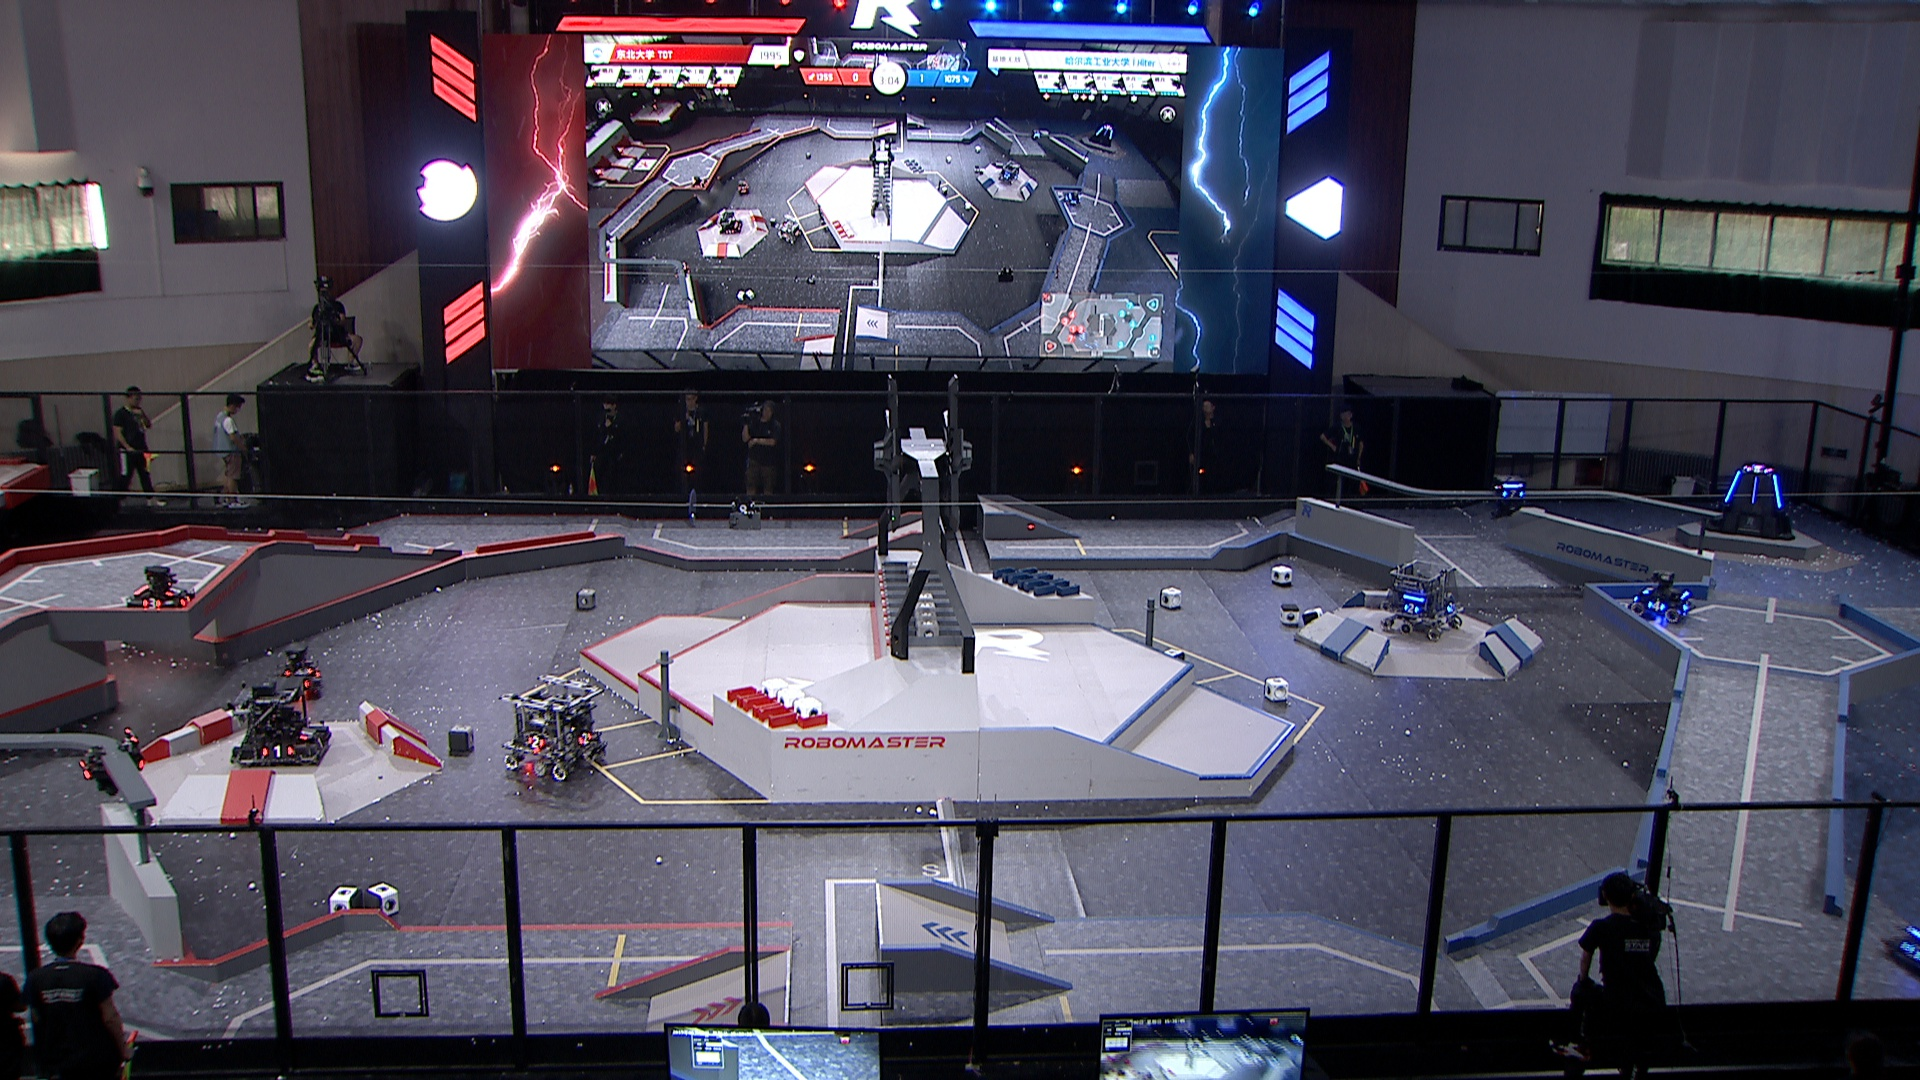armor: (1766, 469, 1787, 509), (1722, 469, 1741, 505), (258, 742, 291, 761), (295, 719, 318, 745), (73, 760, 98, 782), (1899, 940, 1920, 967), (1642, 595, 1669, 613), (524, 733, 547, 754), (284, 665, 314, 680), (572, 728, 595, 749), (1747, 473, 1760, 506), (313, 731, 330, 754), (141, 595, 162, 612), (179, 591, 196, 611), (1501, 488, 1527, 500), (1403, 603, 1423, 618), (164, 583, 182, 597), (1444, 597, 1458, 616)
base: (1702, 462, 1803, 543)
car: (496, 674, 609, 783), (228, 675, 335, 769), (1375, 555, 1466, 641), (1625, 567, 1698, 626), (127, 560, 196, 618), (266, 640, 327, 699), (1884, 905, 1920, 978)
ignore: (1087, 123, 1120, 149), (778, 218, 807, 247), (716, 207, 742, 233), (994, 160, 1022, 185), (735, 177, 754, 195), (1741, 463, 1774, 473)
watcher: (74, 723, 146, 799), (1490, 472, 1528, 520)
